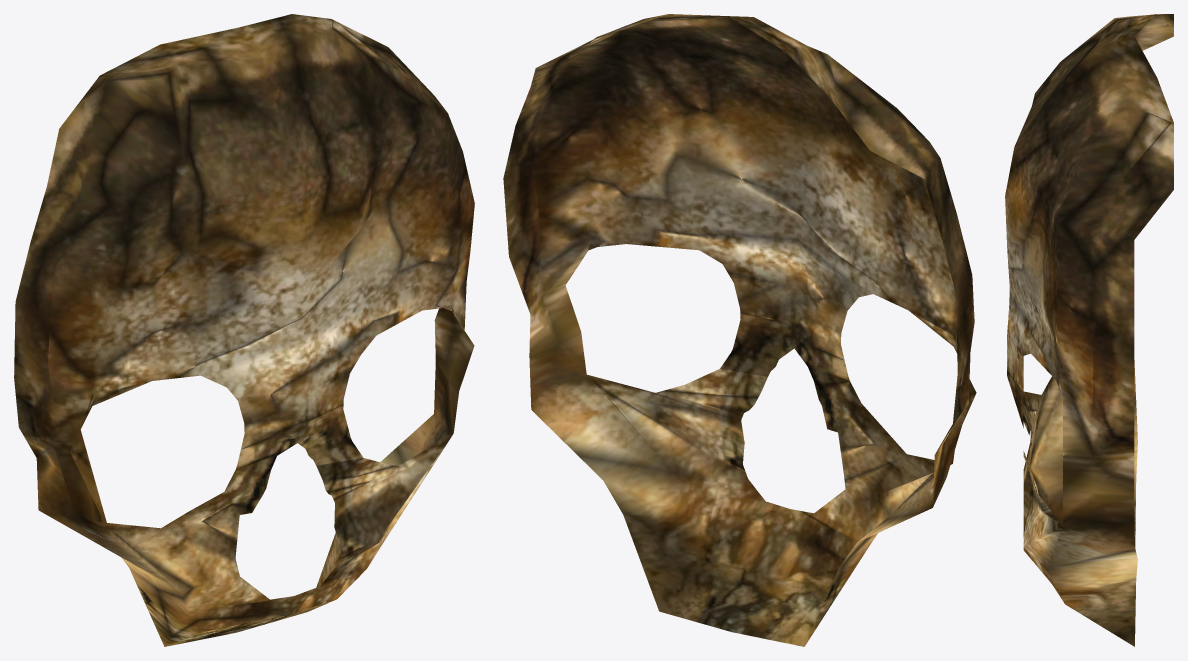
File: skull2.obj
3 views of the same model, side by side, from view 1: azimuth 30°, elevation 25°; view 2: azimuth 150°, elevation 25°; view 3: azimuth 270°, elevation 25° (orthographic). The views are drawn at different scales.
Visible parts, largest first — view 1: Form2; view 2: Form2; view 3: Form2.
Part boxes in pixels (<box>): Form2: <box>14,14,474,646</box>; Form2: <box>503,14,976,646</box>; Form2: <box>1005,14,1173,646</box>.
Bounding box in the file's own units: 16.35 × 21.12 × 5.56.
Materials: 1 (1 with a texture image).
